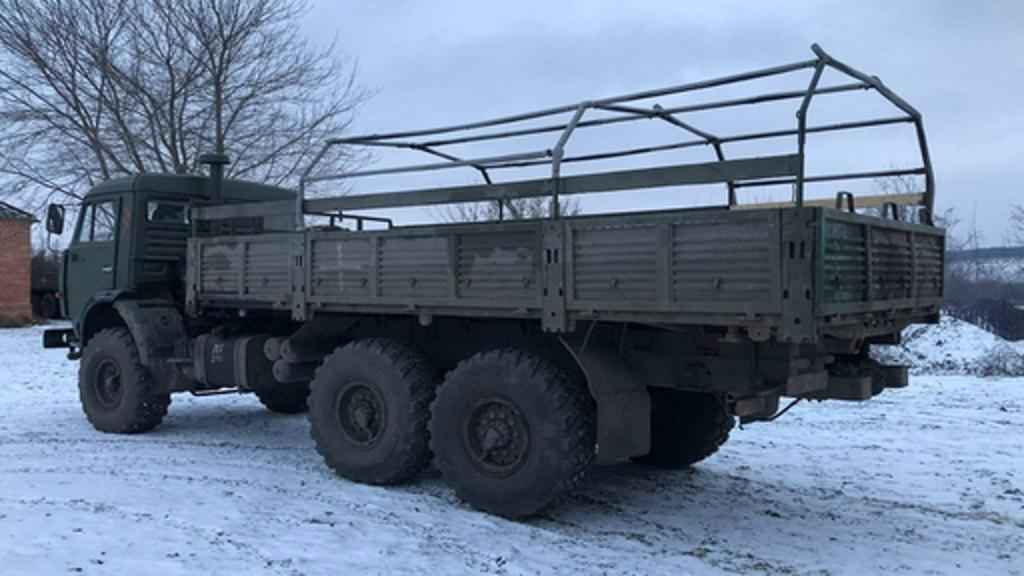TRUCK: (30, 32, 956, 522)
